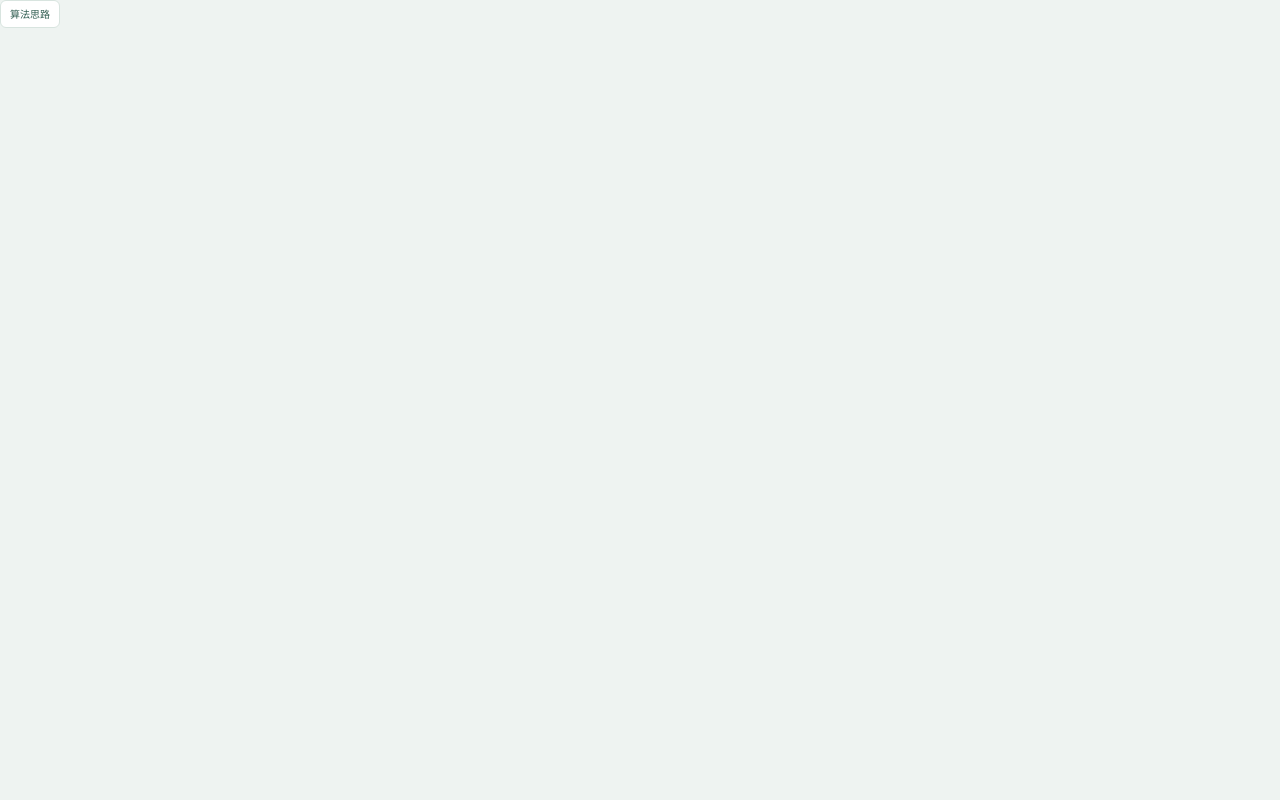
Test: 算法思路弹窗 › 独立展示双指针决策理由与正确性说明
The width and height of the screenshot is (1280, 800).
Step 1. Click the button "算法思路" → (30, 14), box [0,0,60,28]
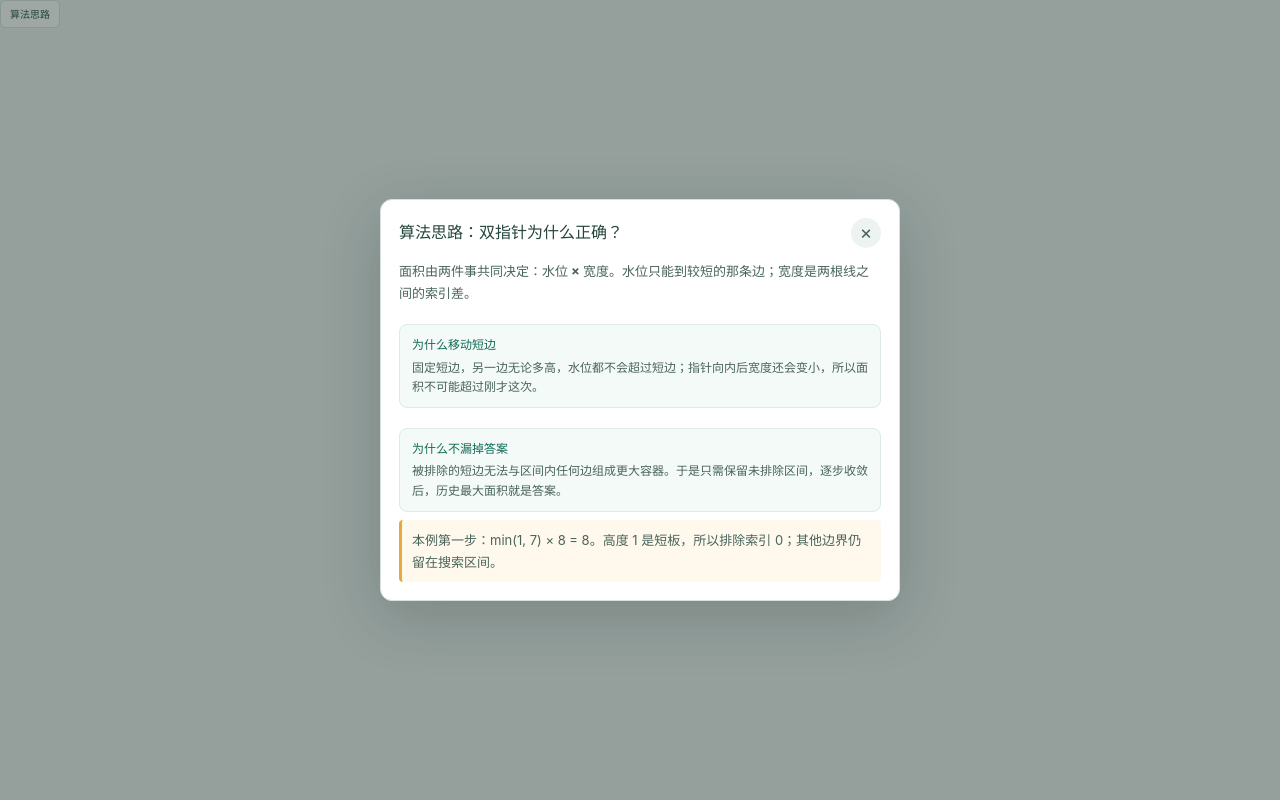
Expected: the dialog "算法思路：双指针为什么正确？" is shown
Expected: the text "为什么移动短边" is shown, [412,337,496,352]
Expected: the text "为什么不漏掉答案" is shown, [412,441,508,456]
Step 2. Press Escape in the dialog, box [380,199,900,601]
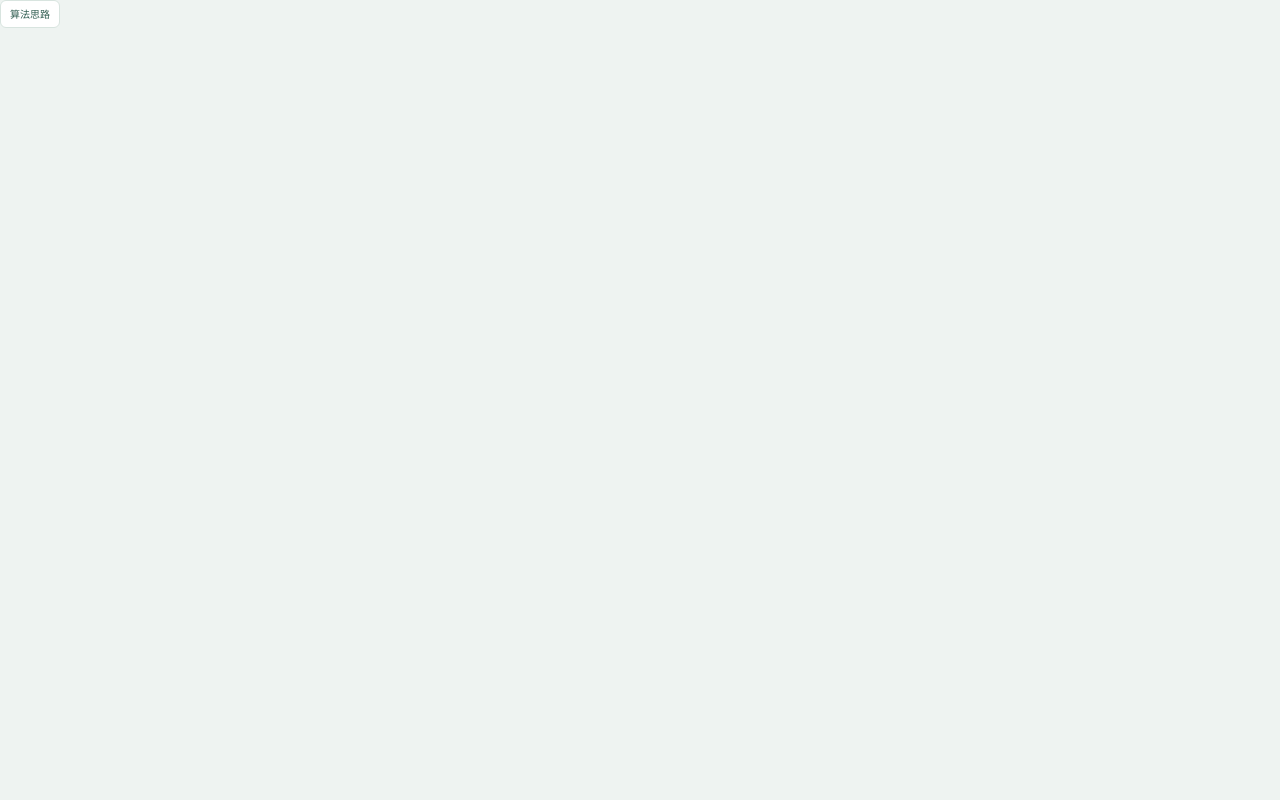
Expected: the dialog is gone
